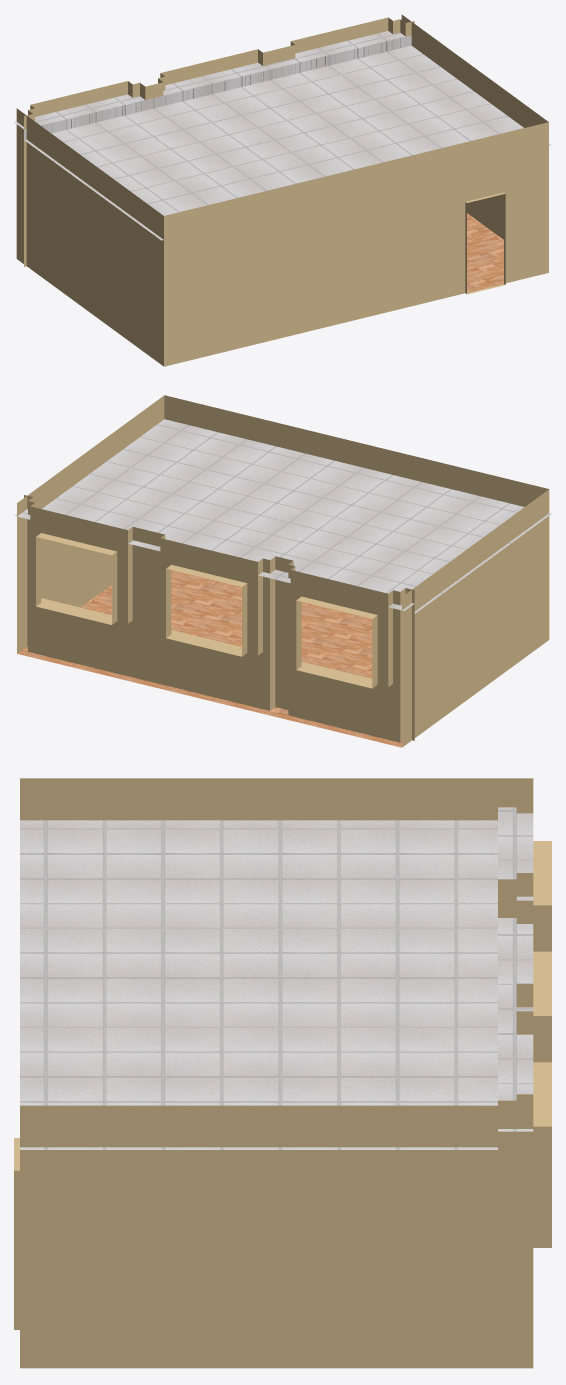
Rendered from room3.glb.
3 views of the same model, one above another, from view 1: azimuth 30°, elevation 25°; view 2: azimuth 150°, elevation 25°; view 3: azimuth 270°, elevation 25° (orthographic). The views are drawn at different scales.
Visible parts, largest first — view 1: 4et.004; view 2: 4et.004; view 3: 4et.004.
Part boxes in pixels (bbox=[...]): 4et.004: bbox=[14, 14, 551, 366]; 4et.004: bbox=[14, 395, 551, 747]; 4et.004: bbox=[14, 778, 551, 1368].
Size of the model in its own units: 8.95 by 3.3 by 6.13.
Materials: 3 (2 with a texture image).
